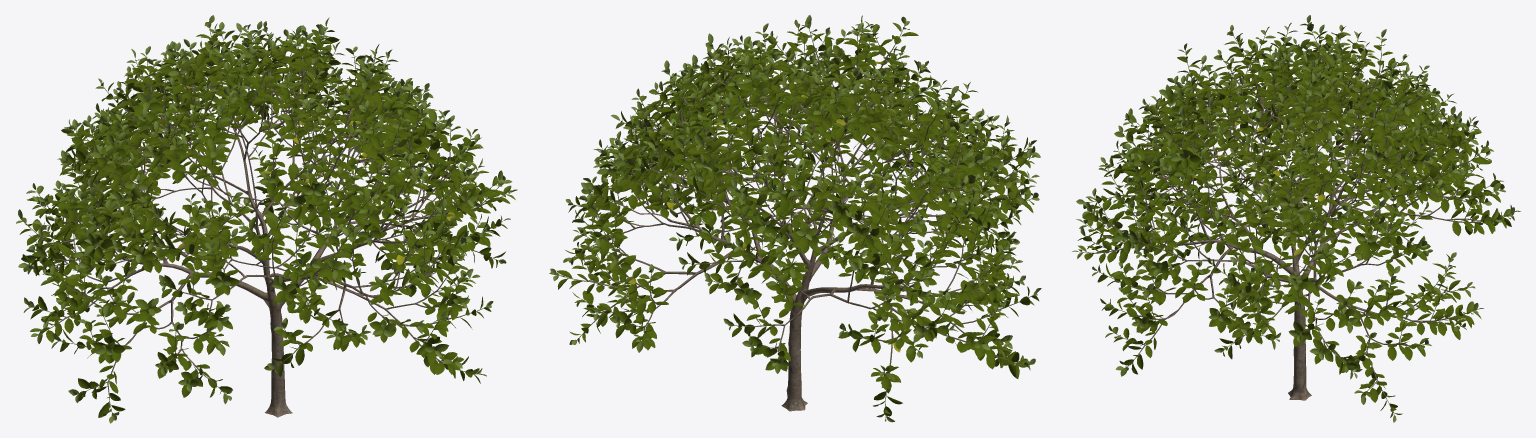
Rendered from Citrus x limon HD_Standard leaves only mat 25_LOD0.fbx.
3 renders of one model, left to right at view 1: azimuth 30°, elevation 25°; view 2: azimuth 150°, elevation 25°; view 3: azimuth 270°, elevation 25°, orthographic. The views are drawn at different scales.
Parts seen in each view (by area): view 1: Citrus_x_limon_HD; view 2: Citrus_x_limon_HD; view 3: Citrus_x_limon_HD.
Part boxes in pixels (<box>): Citrus_x_limon_HD: <box>16,15,517,423</box>; Citrus_x_limon_HD: <box>549,15,1041,422</box>; Citrus_x_limon_HD: <box>1072,15,1520,422</box>.
Bounding box in the file's own units: 2.98 × 2.31 × 2.79.
